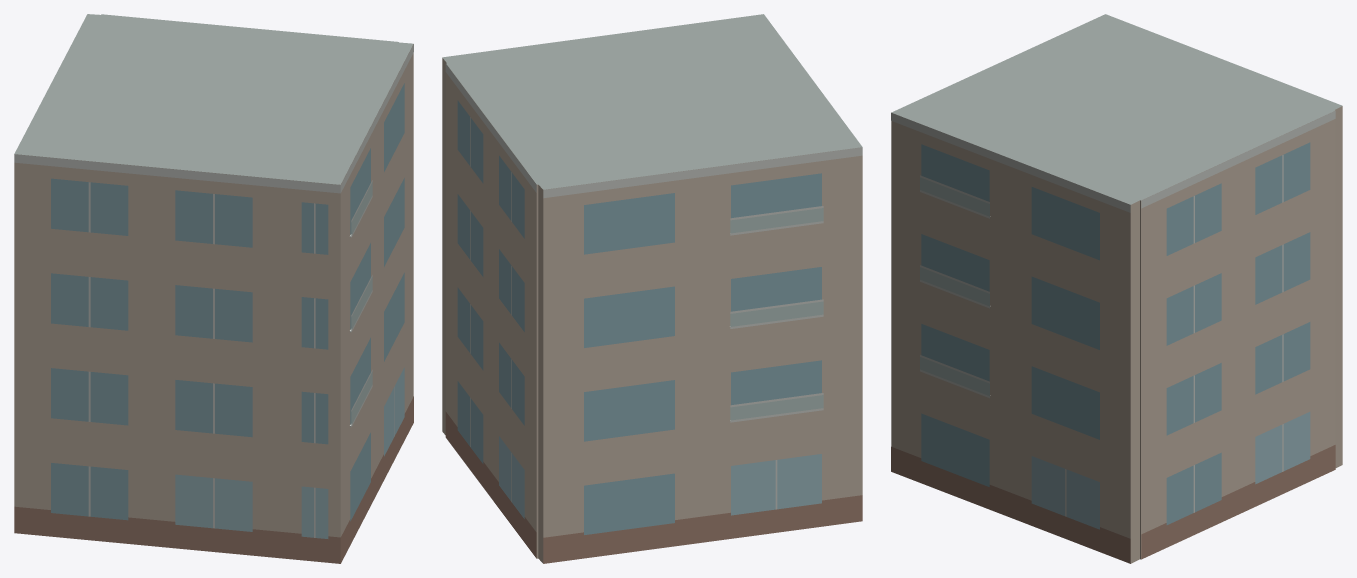
File: survey-upis-32539099.glb
The picture shows the model from 3 angles, left to right: view 1: azimuth 30°, elevation 25°; view 2: azimuth 150°, elevation 25°; view 3: azimuth 270°, elevation 25°; orthographic projection. The views are drawn at different scales.
Visible parts, largest first — view 1: survey-upis-32539099.tmp; view 2: survey-upis-32539099.tmp; view 3: survey-upis-32539099.tmp.
Boxes of the visible parts, x1=… form: survey-upis-32539099.tmp: x1=14, y1=14, x2=413, y2=563; survey-upis-32539099.tmp: x1=442, y1=14, x2=862, y2=563; survey-upis-32539099.tmp: x1=891, y1=14, x2=1342, y2=563.
Bounding box in the file's own units: 12.27 × 10.76 × 12.28.
